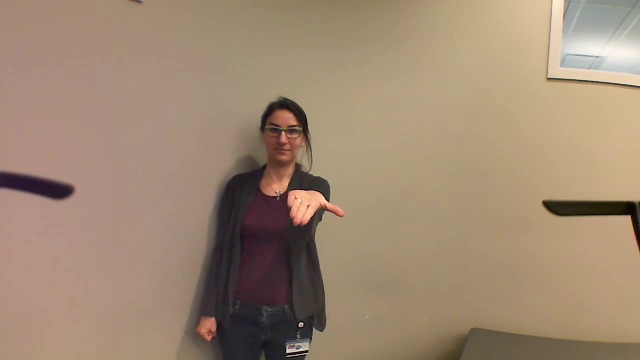land: (279, 183, 349, 232)
